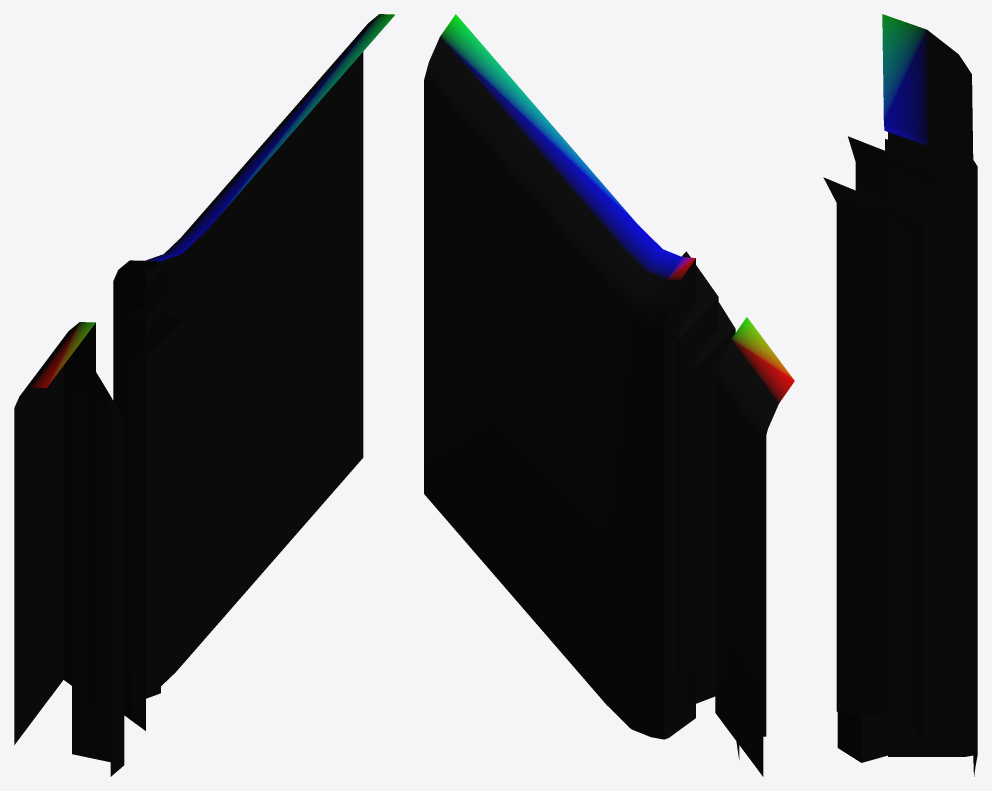
Rendered from 3DSlopeCrevasse.fbx.
3 views of the same model, side by side, from view 1: azimuth 30°, elevation 25°; view 2: azimuth 150°, elevation 25°; view 3: azimuth 270°, elevation 25° (orthographic). The views are drawn at different scales.
Visible parts, largest first — view 1: polySurface11; view 2: polySurface11; view 3: polySurface11.
Boxes of the visible parts, x1,y1,x2,y2 form: polySurface11: (14, 14, 394, 776); polySurface11: (424, 14, 794, 776); polySurface11: (823, 14, 977, 776).
Size of the model in its own units: 9058 by 16855 by 2517.
